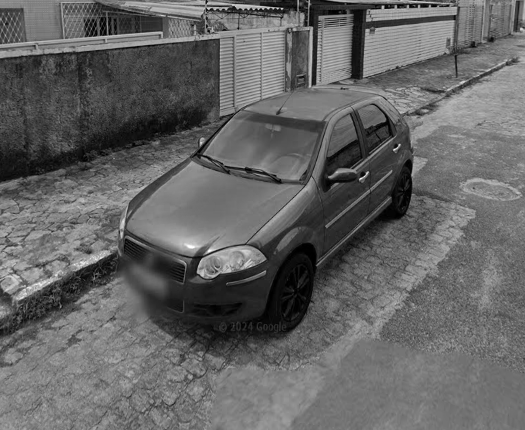car: (114, 83, 415, 332)
